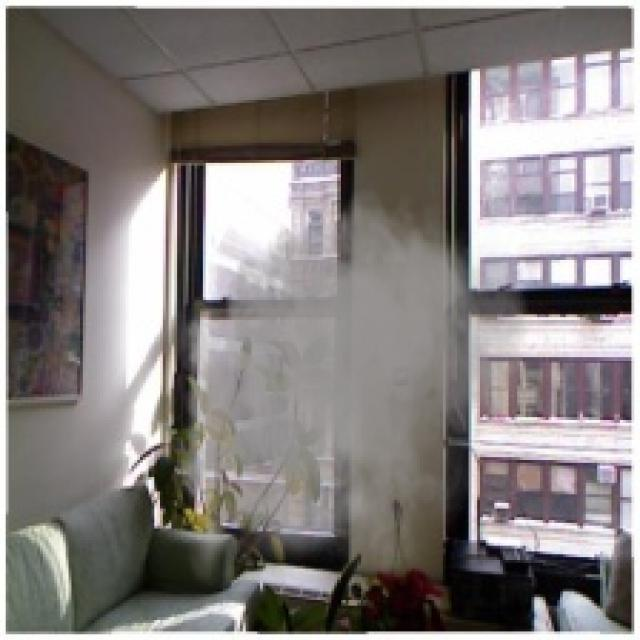Smoke: (157, 177, 540, 597)
